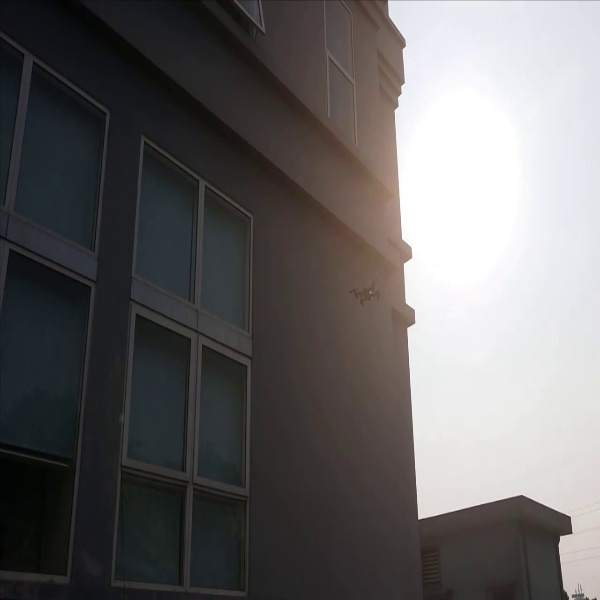drone: (346, 275, 385, 309)
